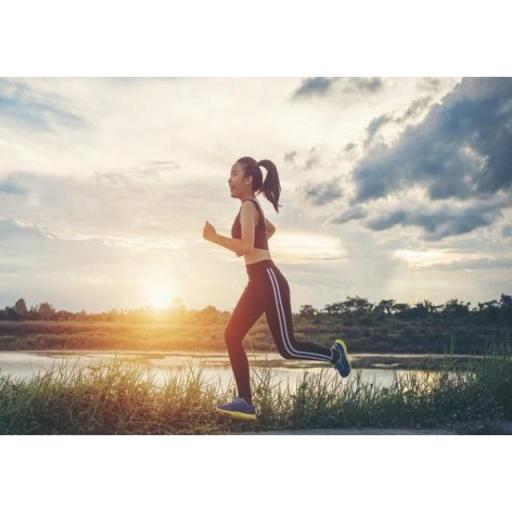Running: (192, 147, 358, 424)
